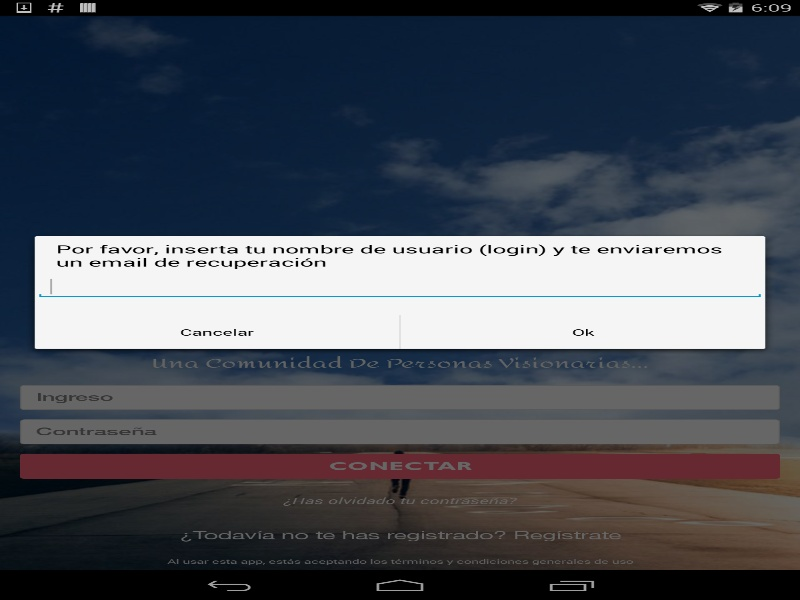Button: (34, 315, 399, 349), (400, 315, 765, 349)
Input: (34, 274, 765, 299)
